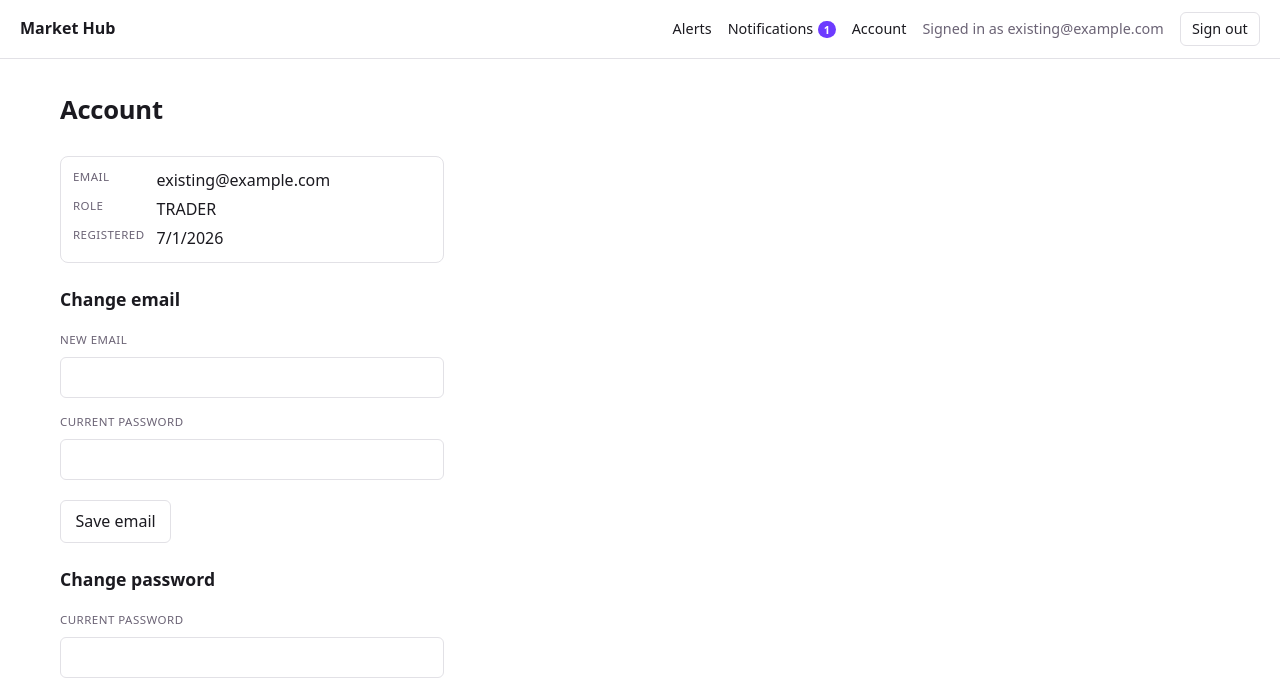
Test: AccountPage › rejects an email change to an already-registered address
The width and height of the screenshot is (1280, 687).
expect the text "existing@example.com" is shown: met, box [157, 169, 330, 191]
Type "taken@example.com" into the field labelled "New email" at (252, 378), box [60, 357, 444, 398]
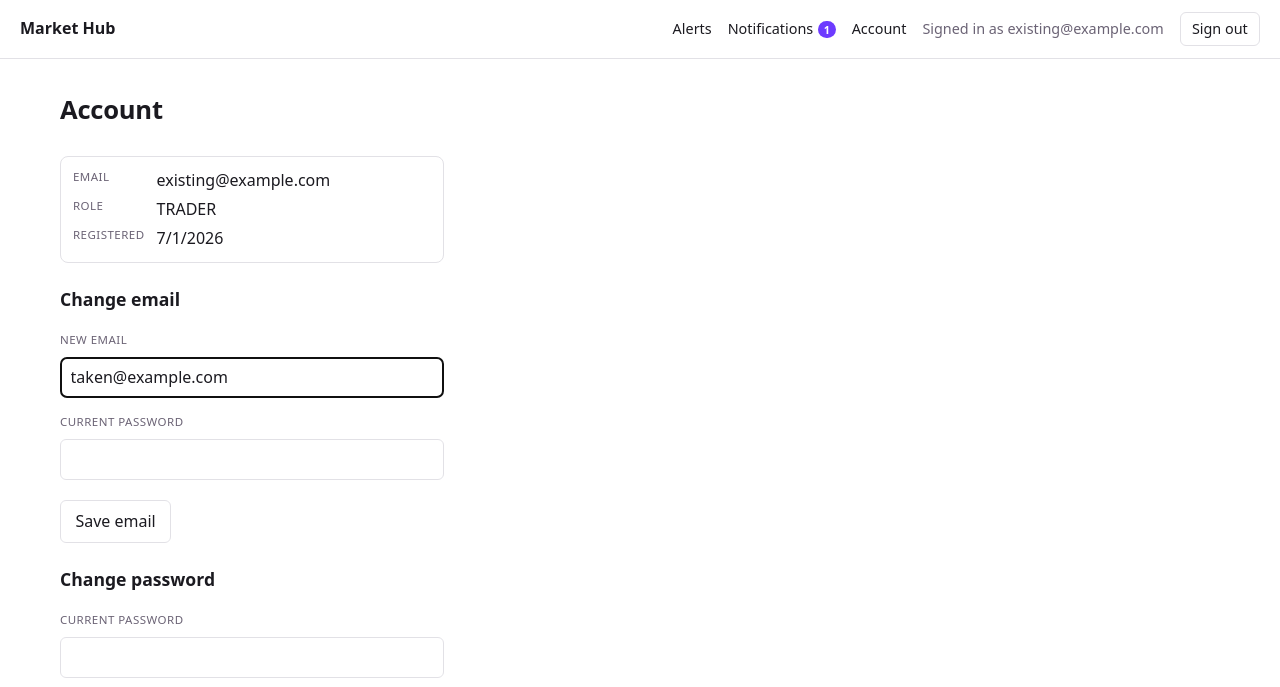
Type "correct-password" into the password field labelled "Current password" below "New email" at (252, 460), box [60, 439, 444, 480]
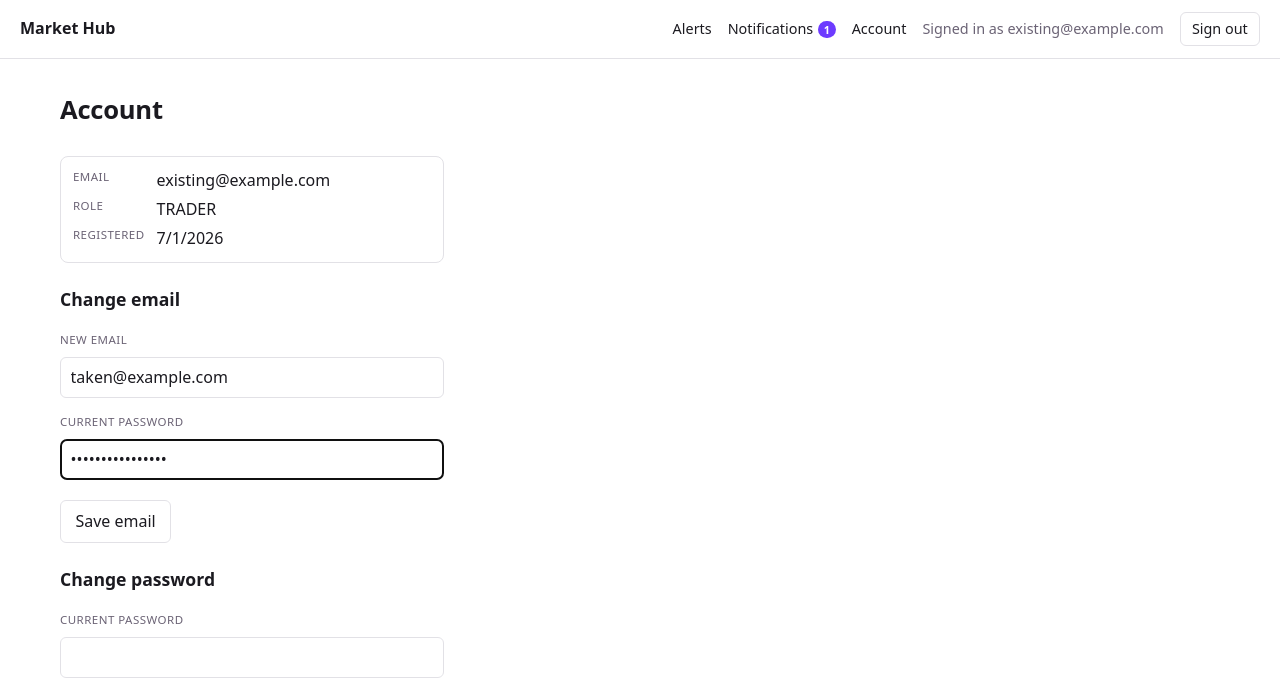
Click the button "Save email" at (116, 522), box [60, 500, 171, 543]
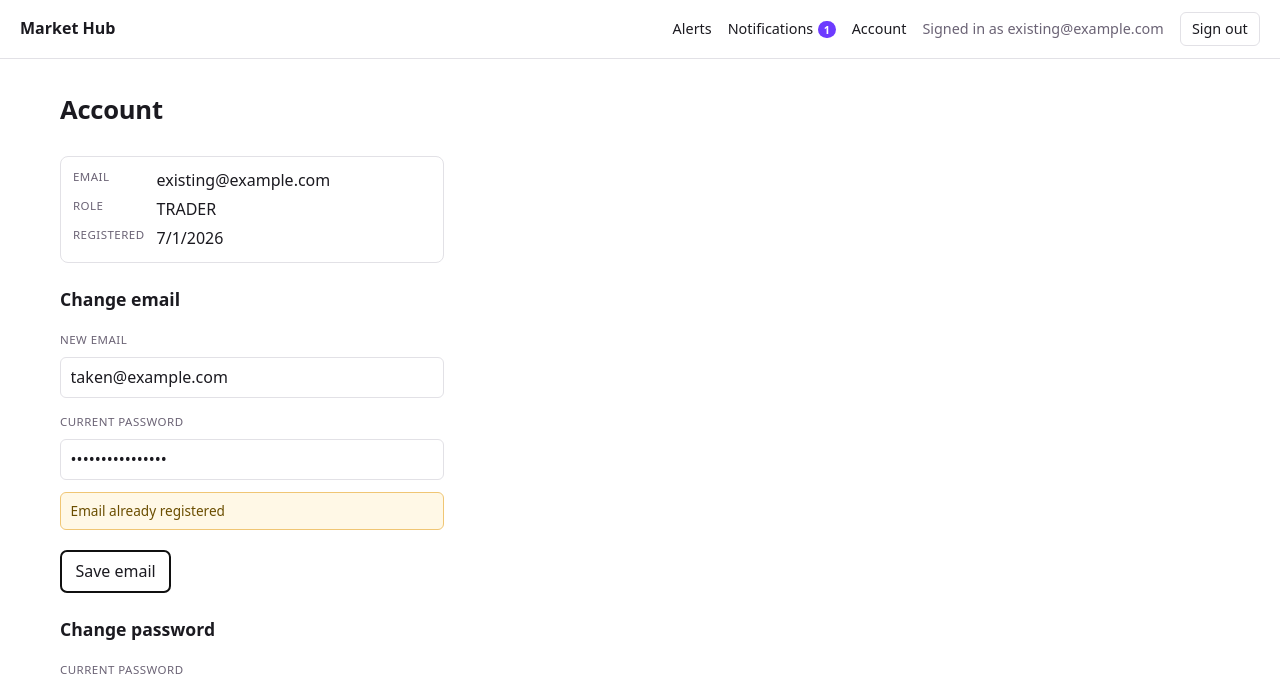
expect the message shows "already registered": met, box [71, 501, 225, 520]
